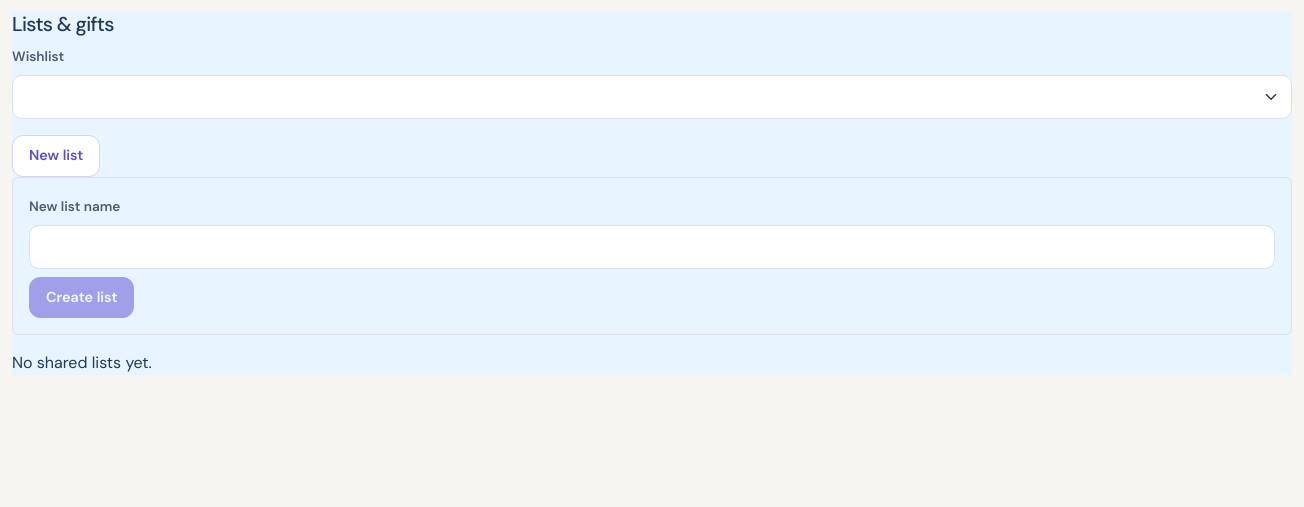
Test: creates the first list without requiring child mode or a PIN
In the field labelled "New list name": [652, 247] box [29, 225, 1275, 269], type "Christmas"
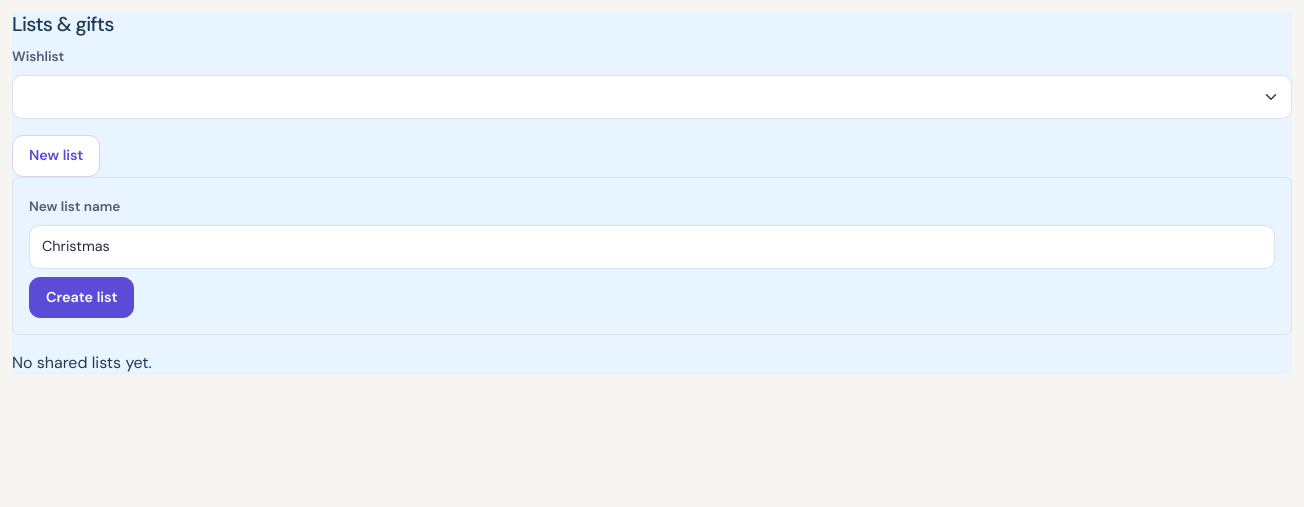
Click the button "Create list": [82, 298] box [29, 277, 134, 318]
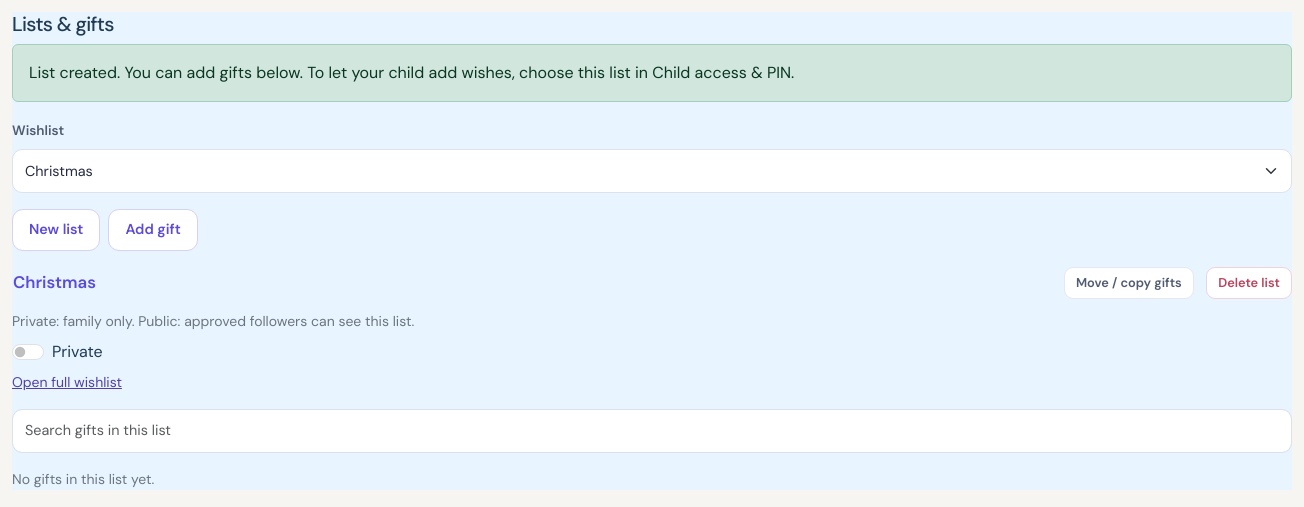
Result: the button named "Rename Christmas" is shown at [12, 270, 1052, 295]
Result: the dropdown labelled "Wishlist" shows "Christmas" at [12, 149, 1292, 193]
